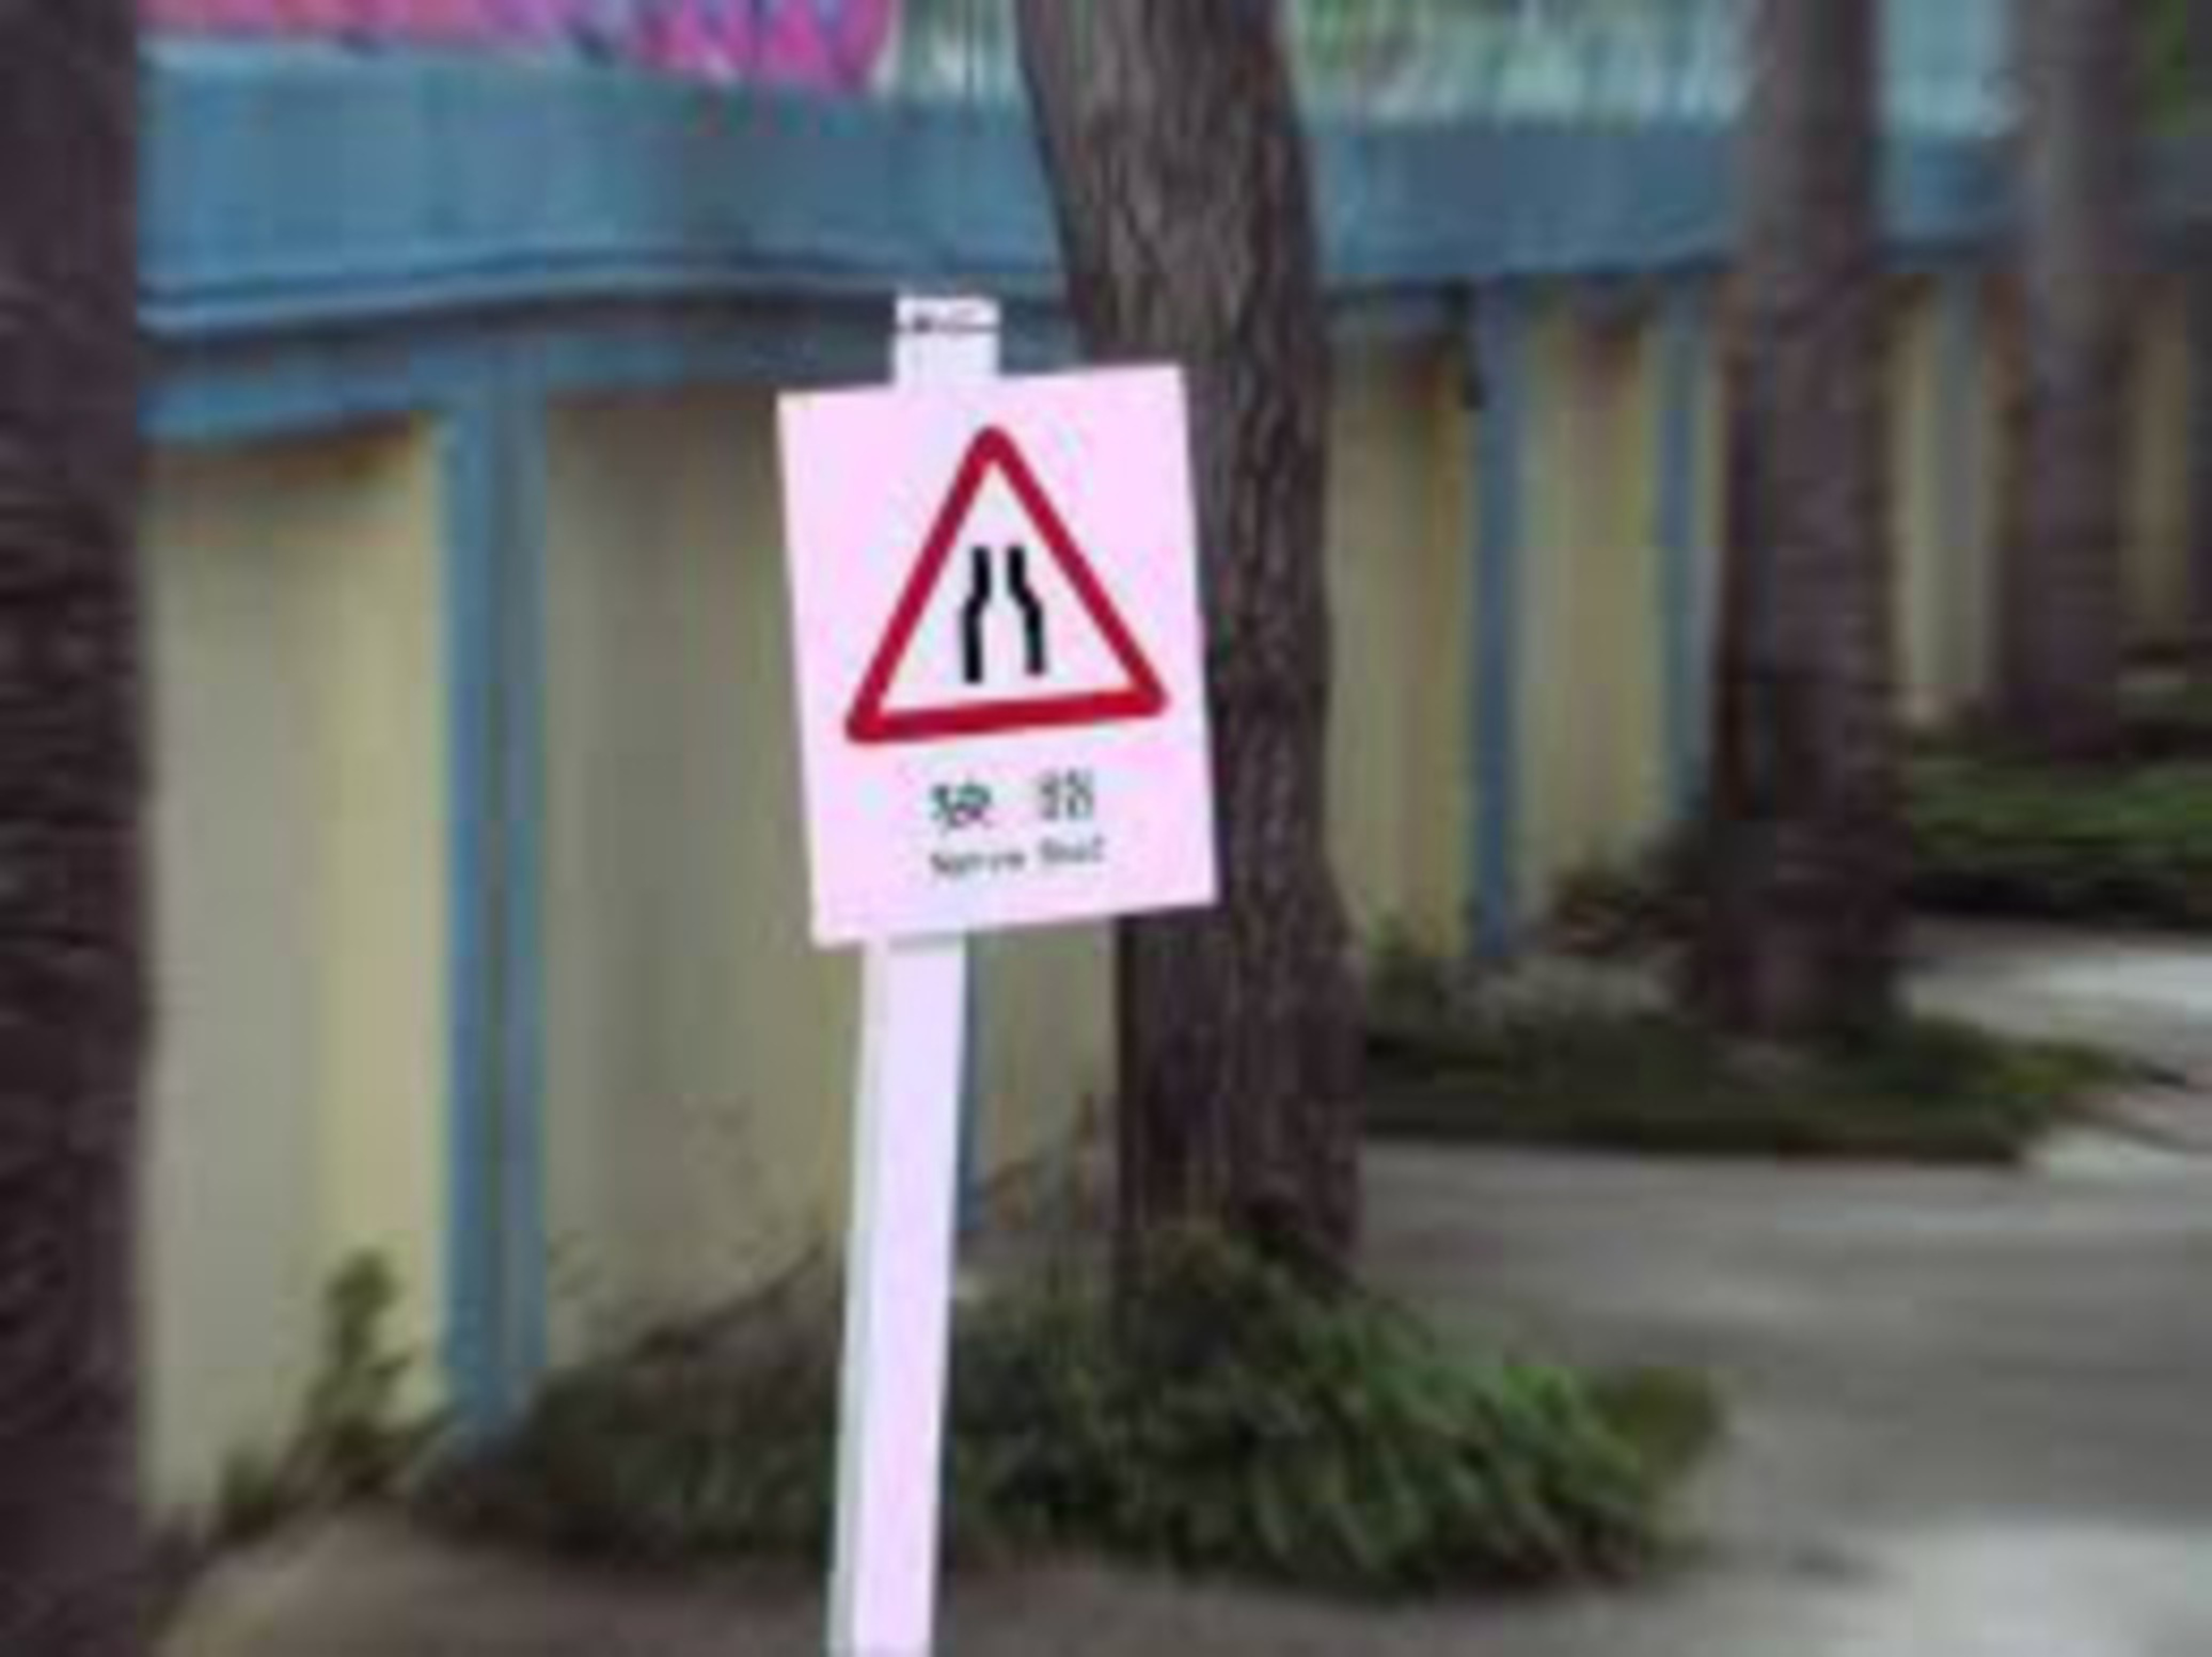Narrow_road: (814, 407, 1189, 747)
